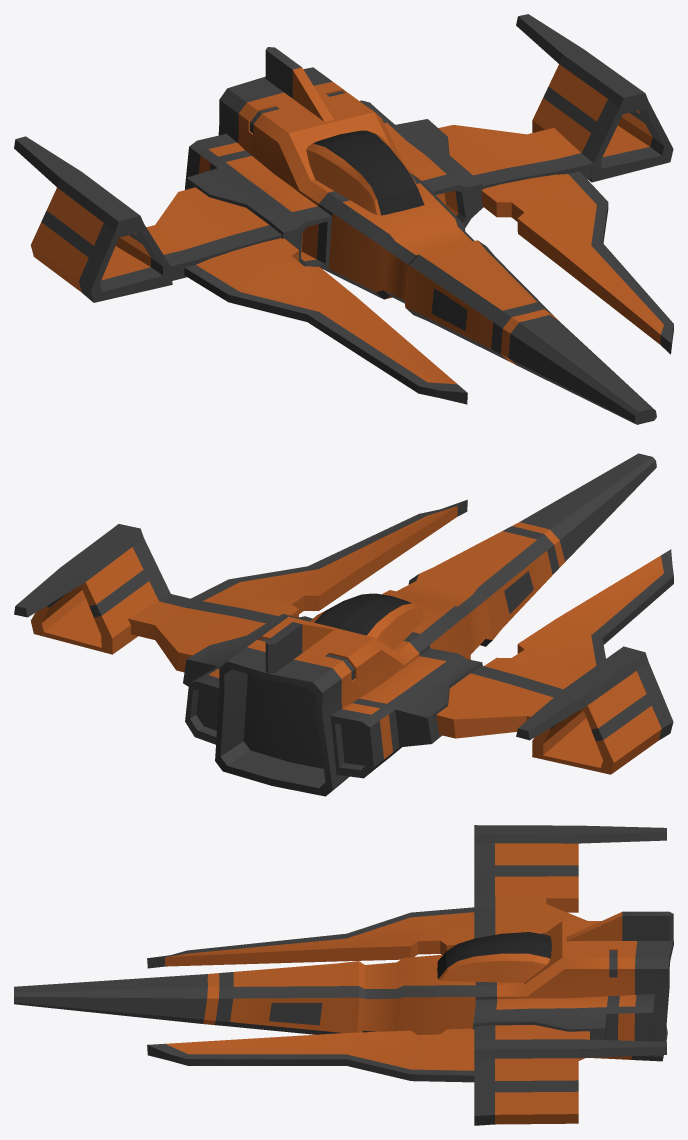
File: shuttle.glb
3 views of the same model, one above another, from view 1: azimuth 30°, elevation 25°; view 2: azimuth 150°, elevation 25°; view 3: azimuth 270°, elevation 25° (orthographic). The views are drawn at different scales.
Parts seen in each view (by area): view 1: Spaceship_RaeTheRedPanda; view 2: Spaceship_RaeTheRedPanda; view 3: Spaceship_RaeTheRedPanda.
Boxes of the visible parts, x1=… form: Spaceship_RaeTheRedPanda: x1=14, y1=14, x2=673, y2=424; Spaceship_RaeTheRedPanda: x1=14, y1=453, x2=673, y2=796; Spaceship_RaeTheRedPanda: x1=14, y1=825, x2=673, y2=1125.
Size of the model in its own units: 9.95 by 2.35 by 11.17.
Materials: 1 (1 with a texture image).
